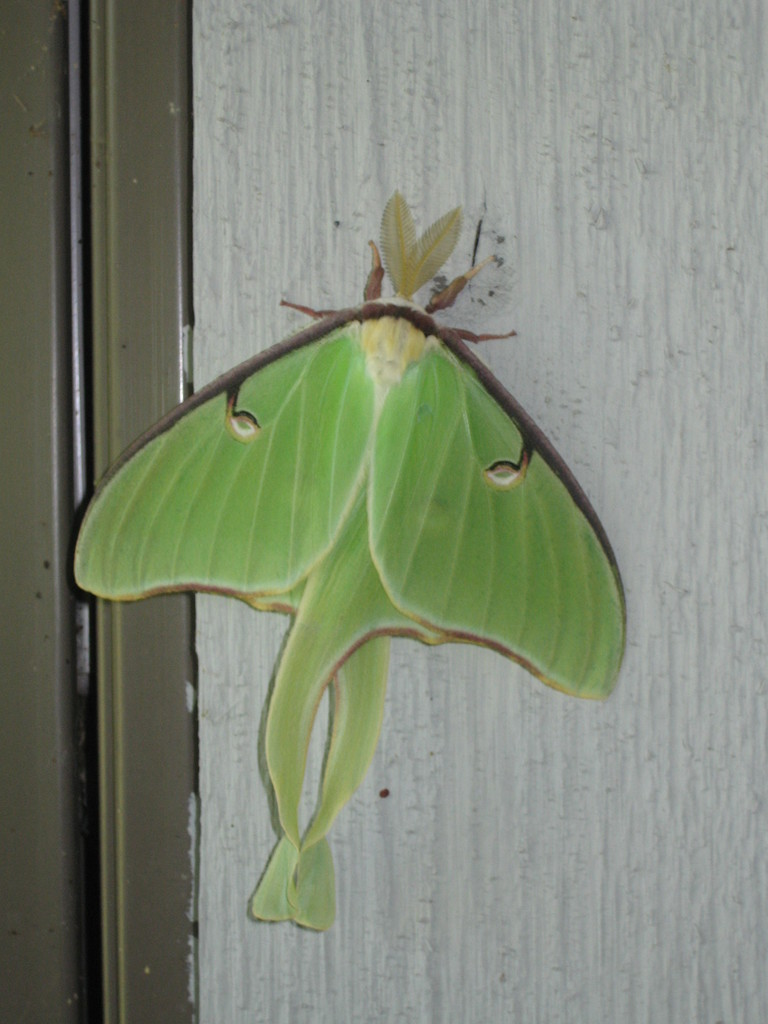Butterfly: (96, 274, 622, 927)
